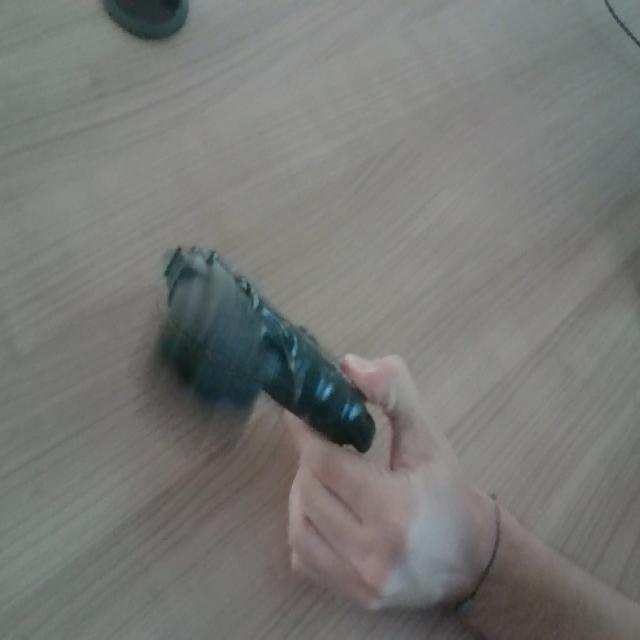handgun: (139, 221, 382, 459)
